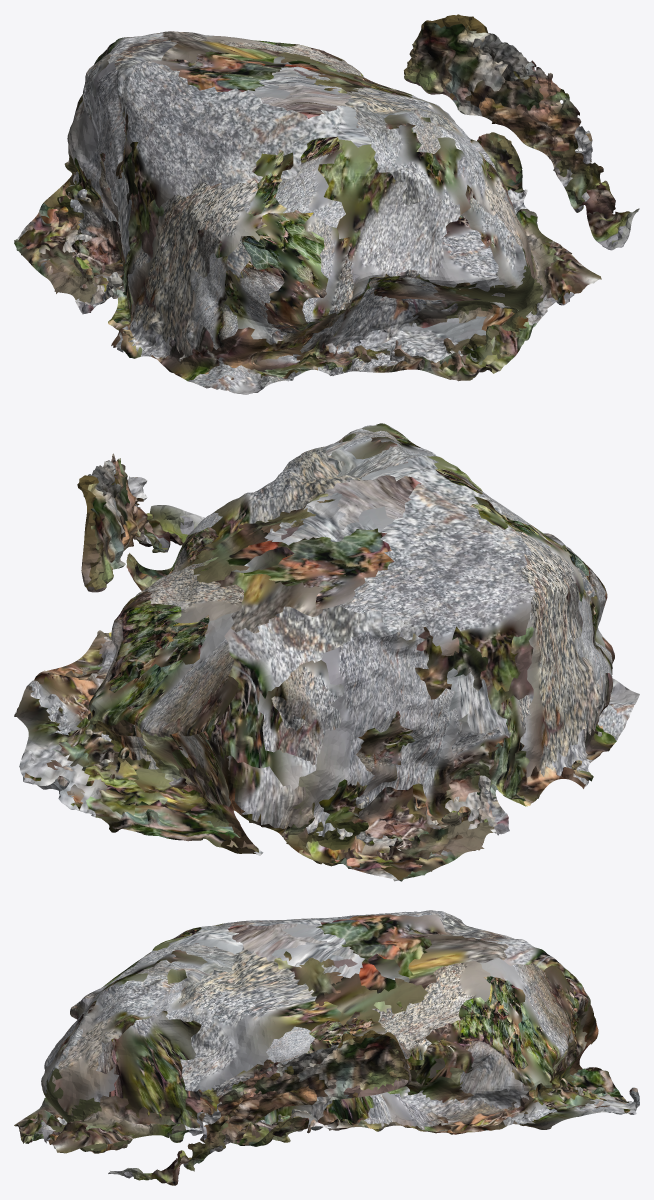
3 views of the same model, one above another, from view 1: azimuth 30°, elevation 25°; view 2: azimuth 150°, elevation 25°; view 3: azimuth 270°, elevation 25° (orthographic). The views are drawn at different scales.
Parts seen in each view (by area): view 1: nodes[0]; view 2: nodes[0]; view 3: nodes[0].
Boxes of the visible parts, x1,y1,x2,y2 form: nodes[0]: (14, 14, 639, 394); nodes[0]: (14, 423, 639, 881); nodes[0]: (14, 910, 639, 1185).
Size of the model in its own units: 1.96 by 0.8919 by 2.5.
